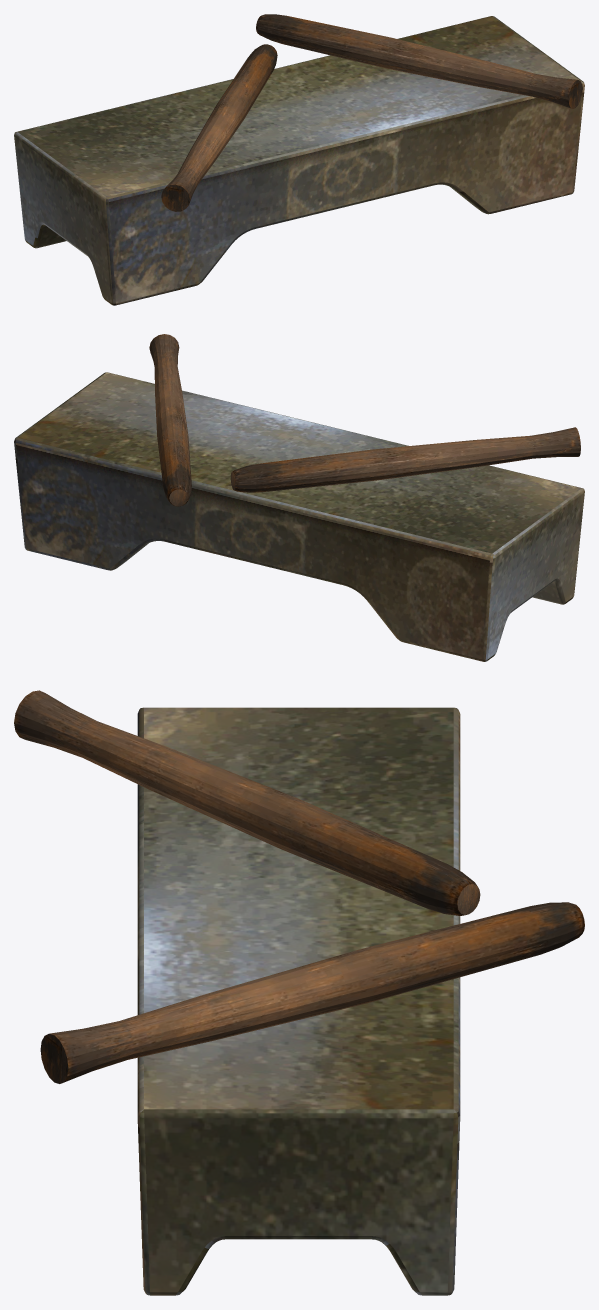
The model's file is iron.FBX.
3 renders of one model, top to bottom at view 1: azimuth 30°, elevation 25°; view 2: azimuth 150°, elevation 25°; view 3: azimuth 270°, elevation 25°, orthographic. The views are drawn at different scales.
Parts seen in each view (by area): view 1: iron; view 2: iron; view 3: iron.
Part boxes in pixels (bbox=[...]): iron: bbox=[14, 14, 584, 305]; iron: bbox=[14, 334, 584, 661]; iron: bbox=[14, 690, 584, 1295].
Size of the model in its own units: 41.51 by 11.52 by 24.62.
